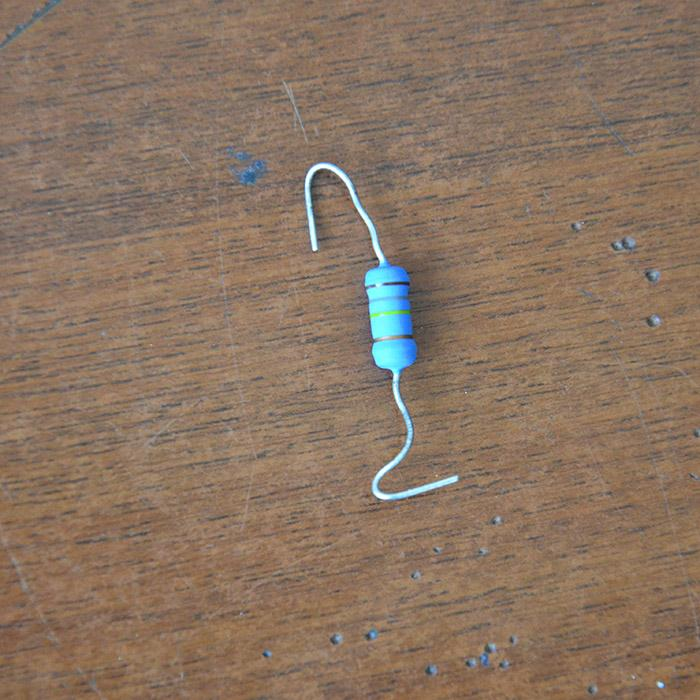resistor: (364, 262, 417, 372)
